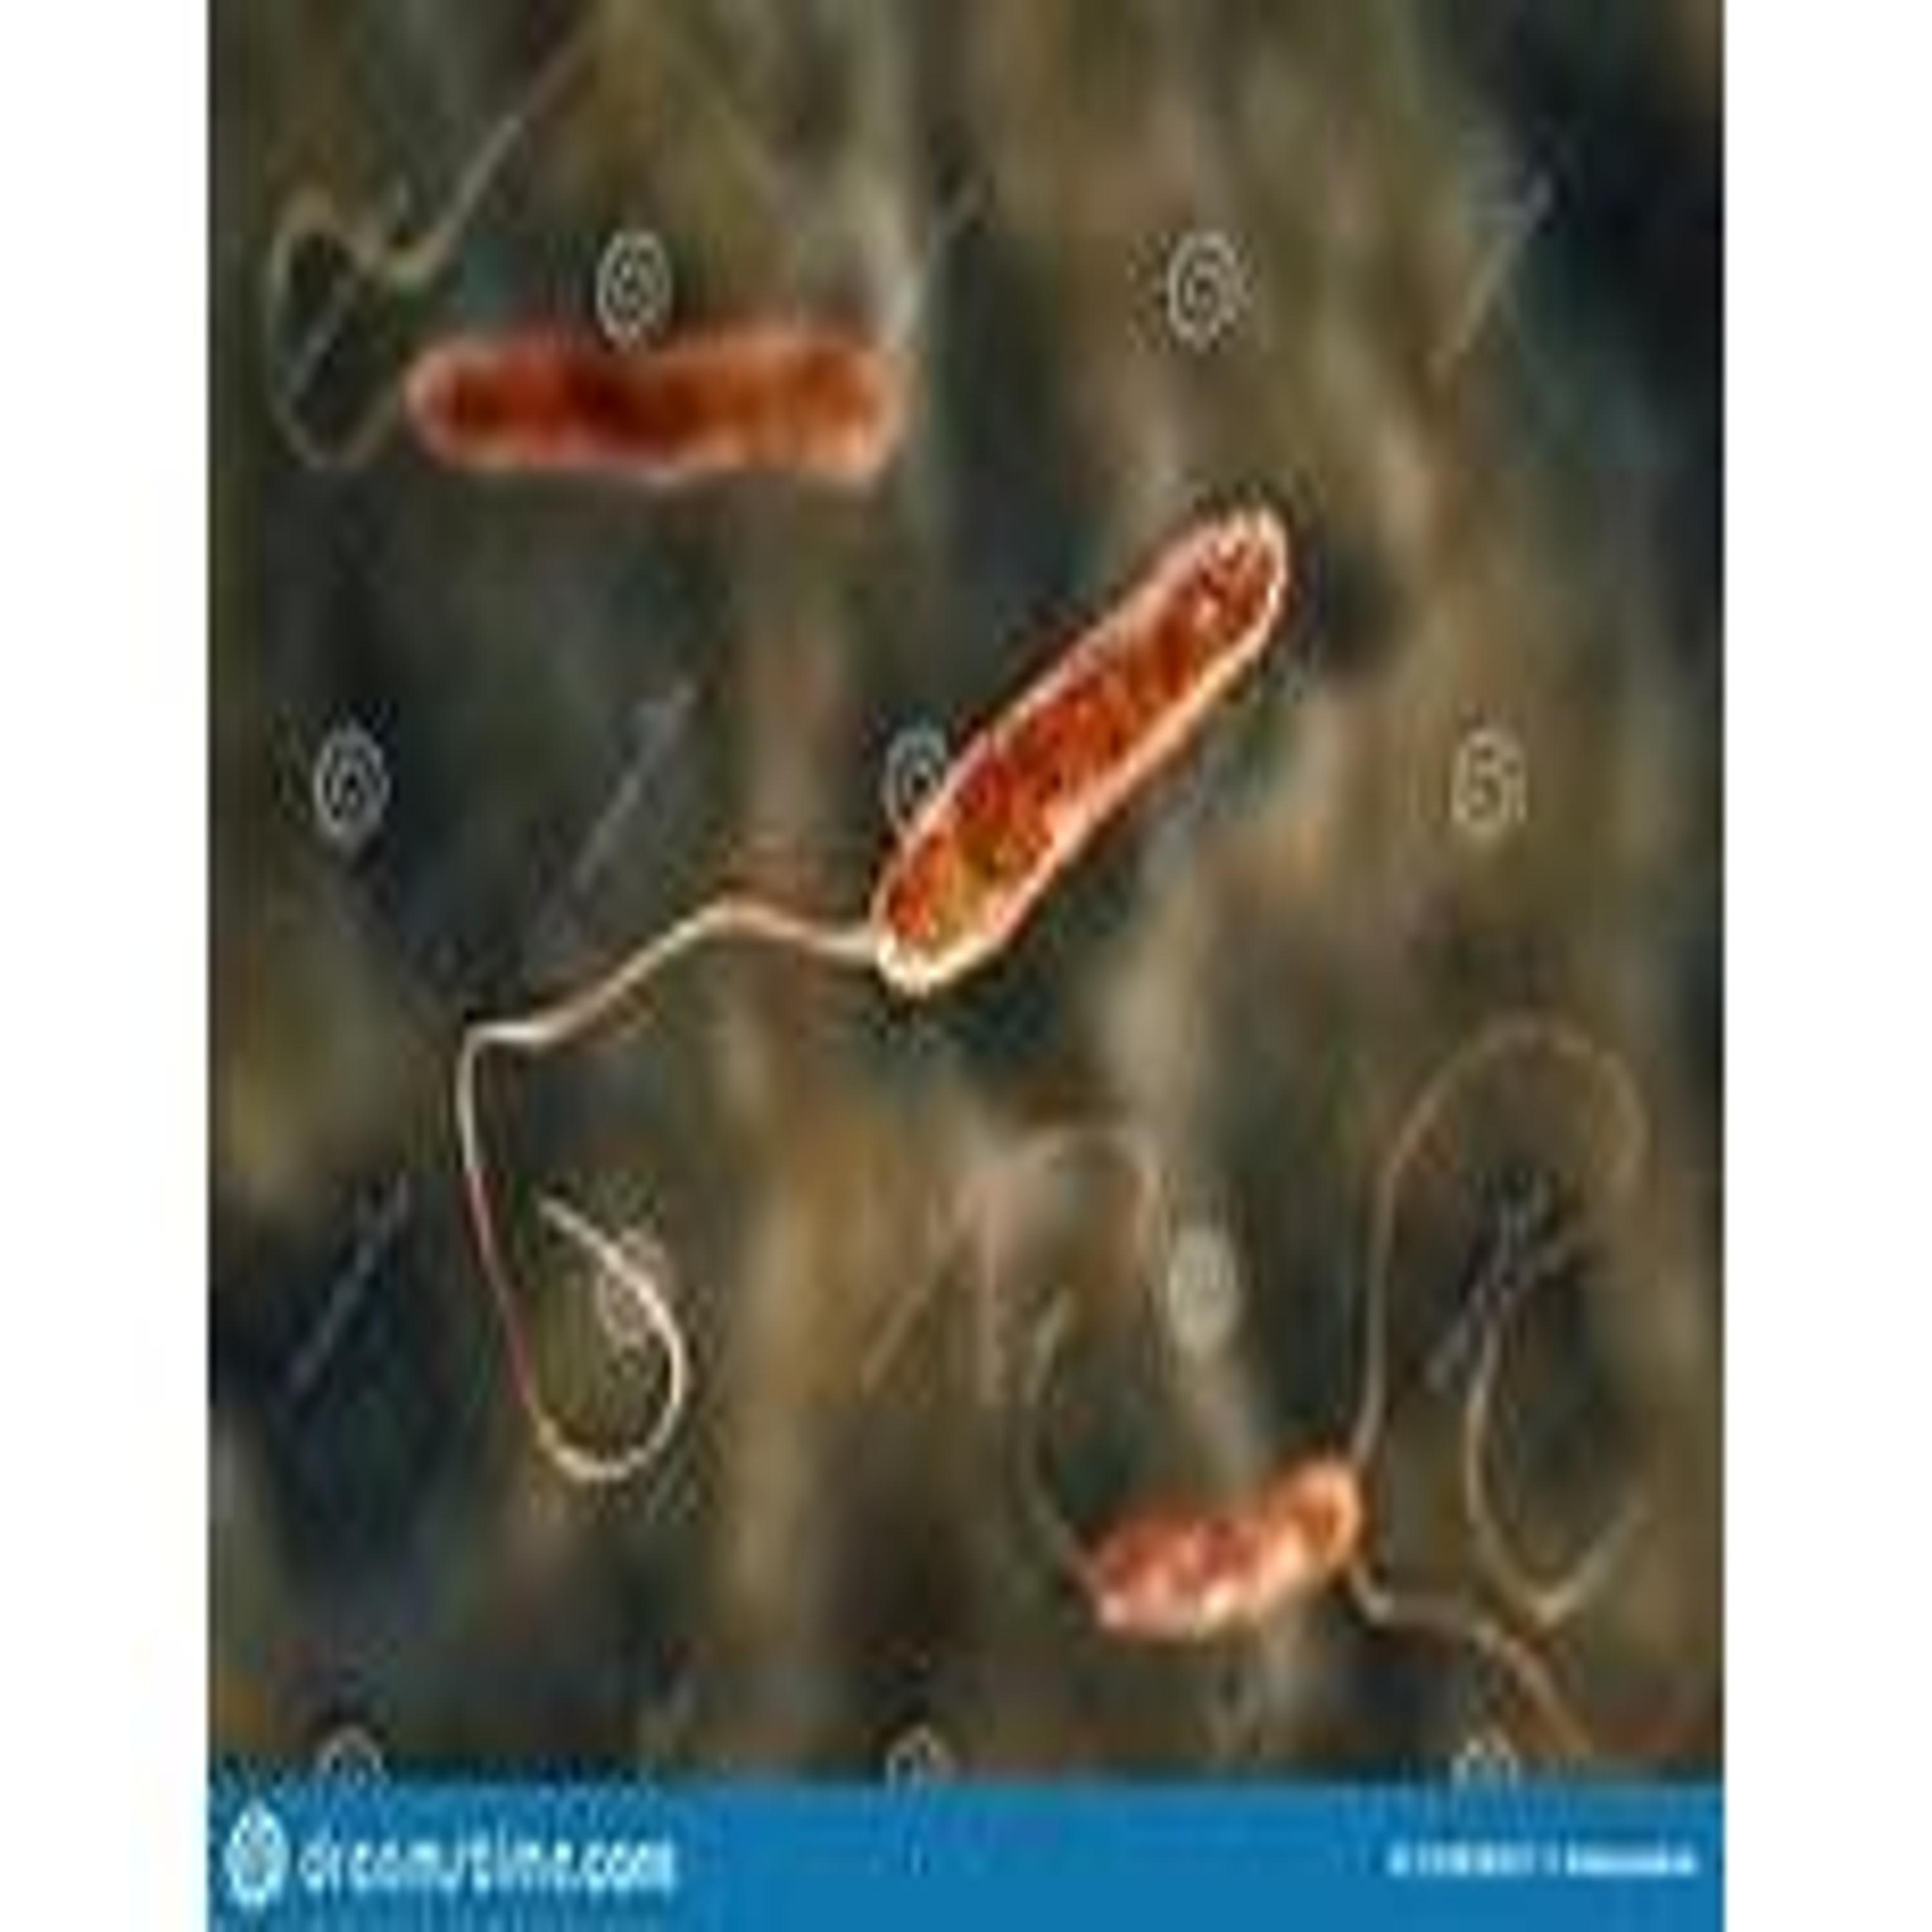Vibrio_cholerae5: (453, 478, 1295, 1493)
